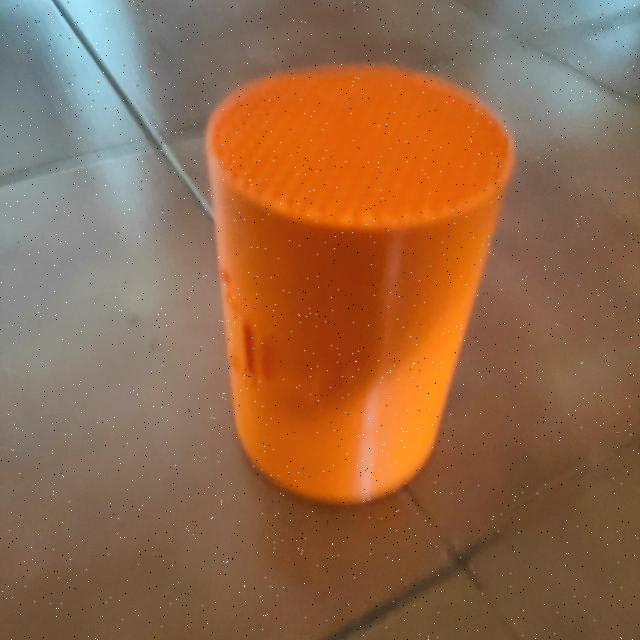Cylinder: (204, 61, 516, 505)
